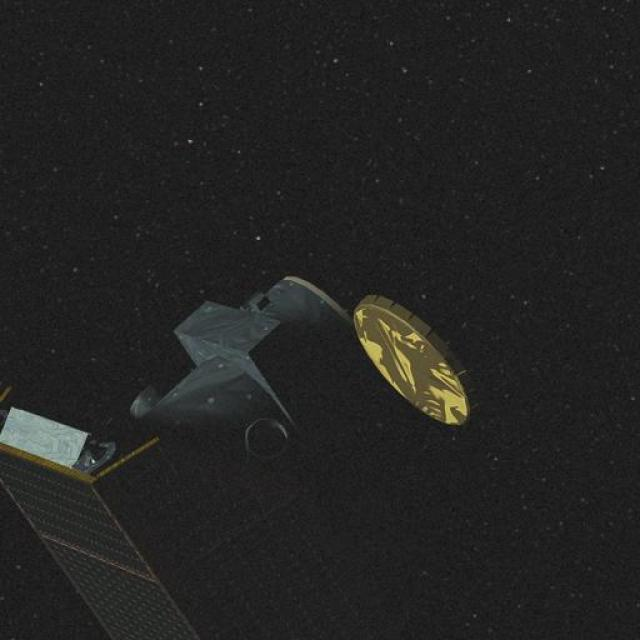cheops: (0, 257, 449, 634)
